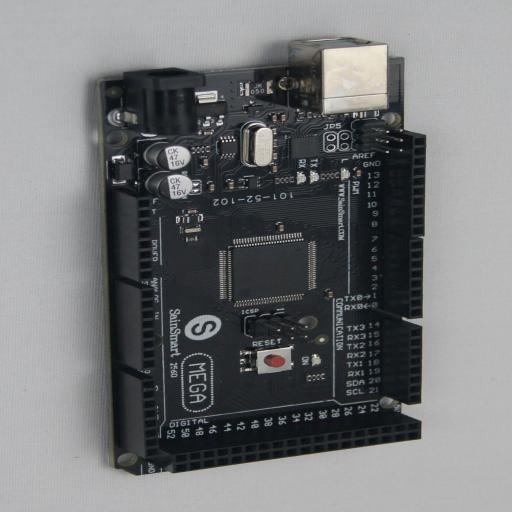Arduino Mega 2560 -Black-: (87, 37, 426, 475)
